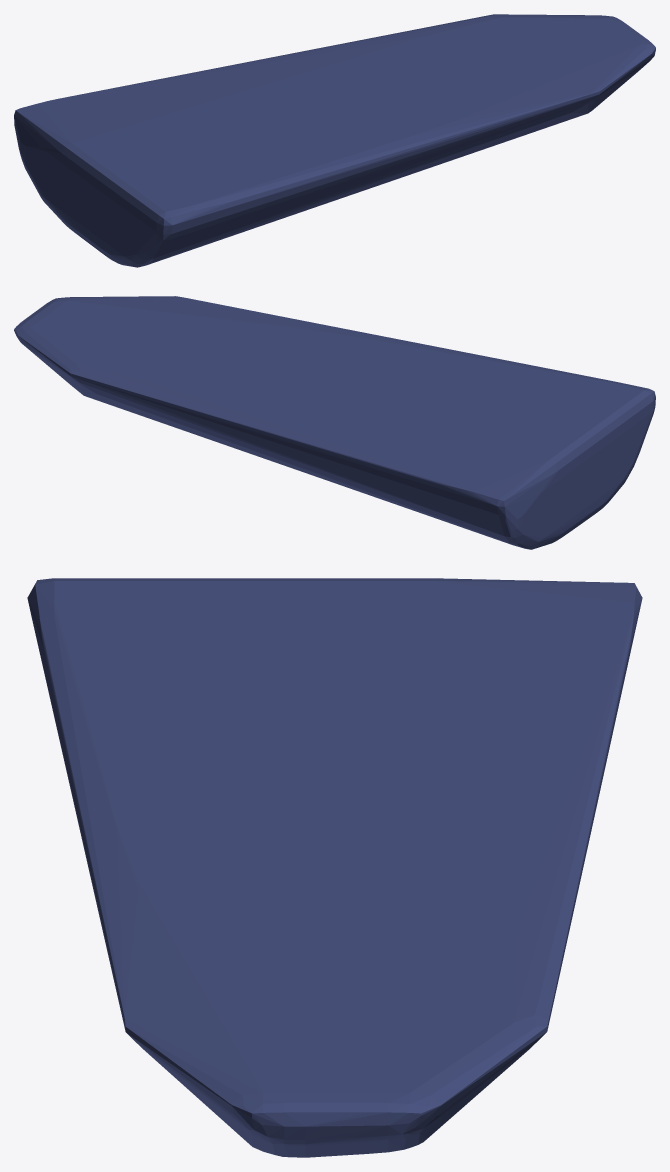
The model's file is right-shin-0_part_16.obj.
The picture shows the model from 3 angles, top to bottom: view 1: azimuth 30°, elevation 25°; view 2: azimuth 150°, elevation 25°; view 3: azimuth 270°, elevation 25°; orthographic projection. The views are drawn at different scales.
Bounding box in the file's own units: 0.1285 × 0.0184 × 0.0621.
